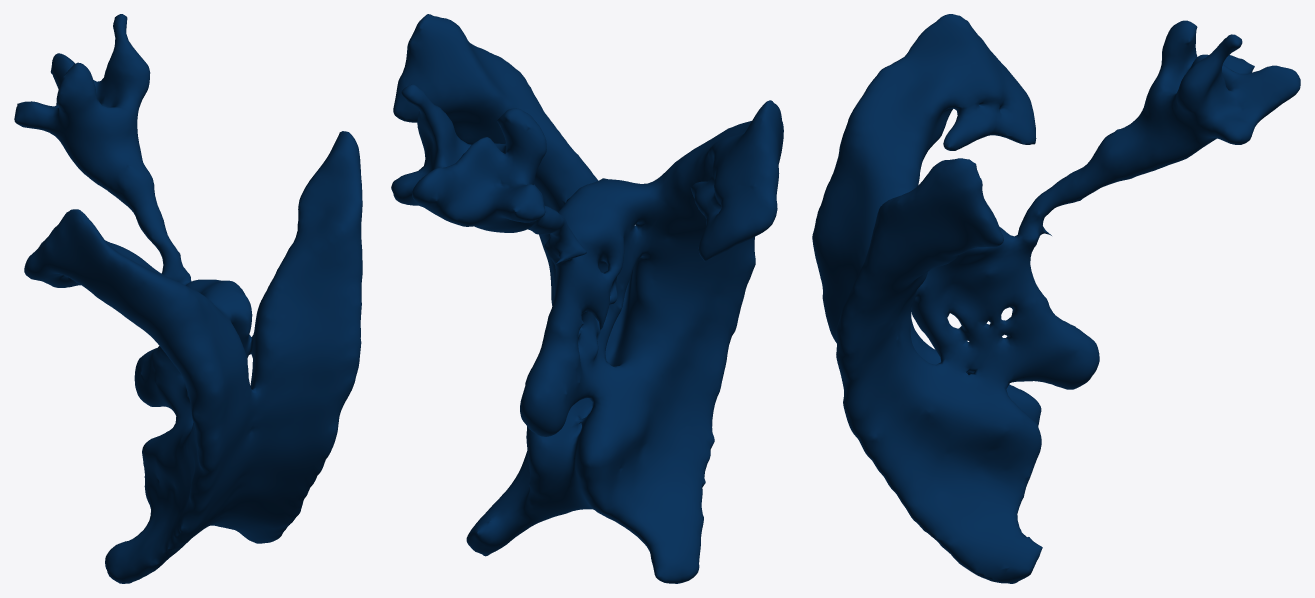
File: Ventricle.obj
The picture shows the model from 3 angles, left to right: view 1: azimuth 30°, elevation 25°; view 2: azimuth 150°, elevation 25°; view 3: azimuth 270°, elevation 25°; orthographic projection. The views are drawn at different scales.
Parts seen in each view (by area): view 1: grp1; view 2: grp1; view 3: grp1.
Part boxes in pixels (<box>): grp1: <box>14,14,362,583</box>; grp1: <box>391,14,783,583</box>; grp1: <box>812,14,1300,583</box>.
Size of the model in its own units: 58.68 by 82.57 by 69.04.
